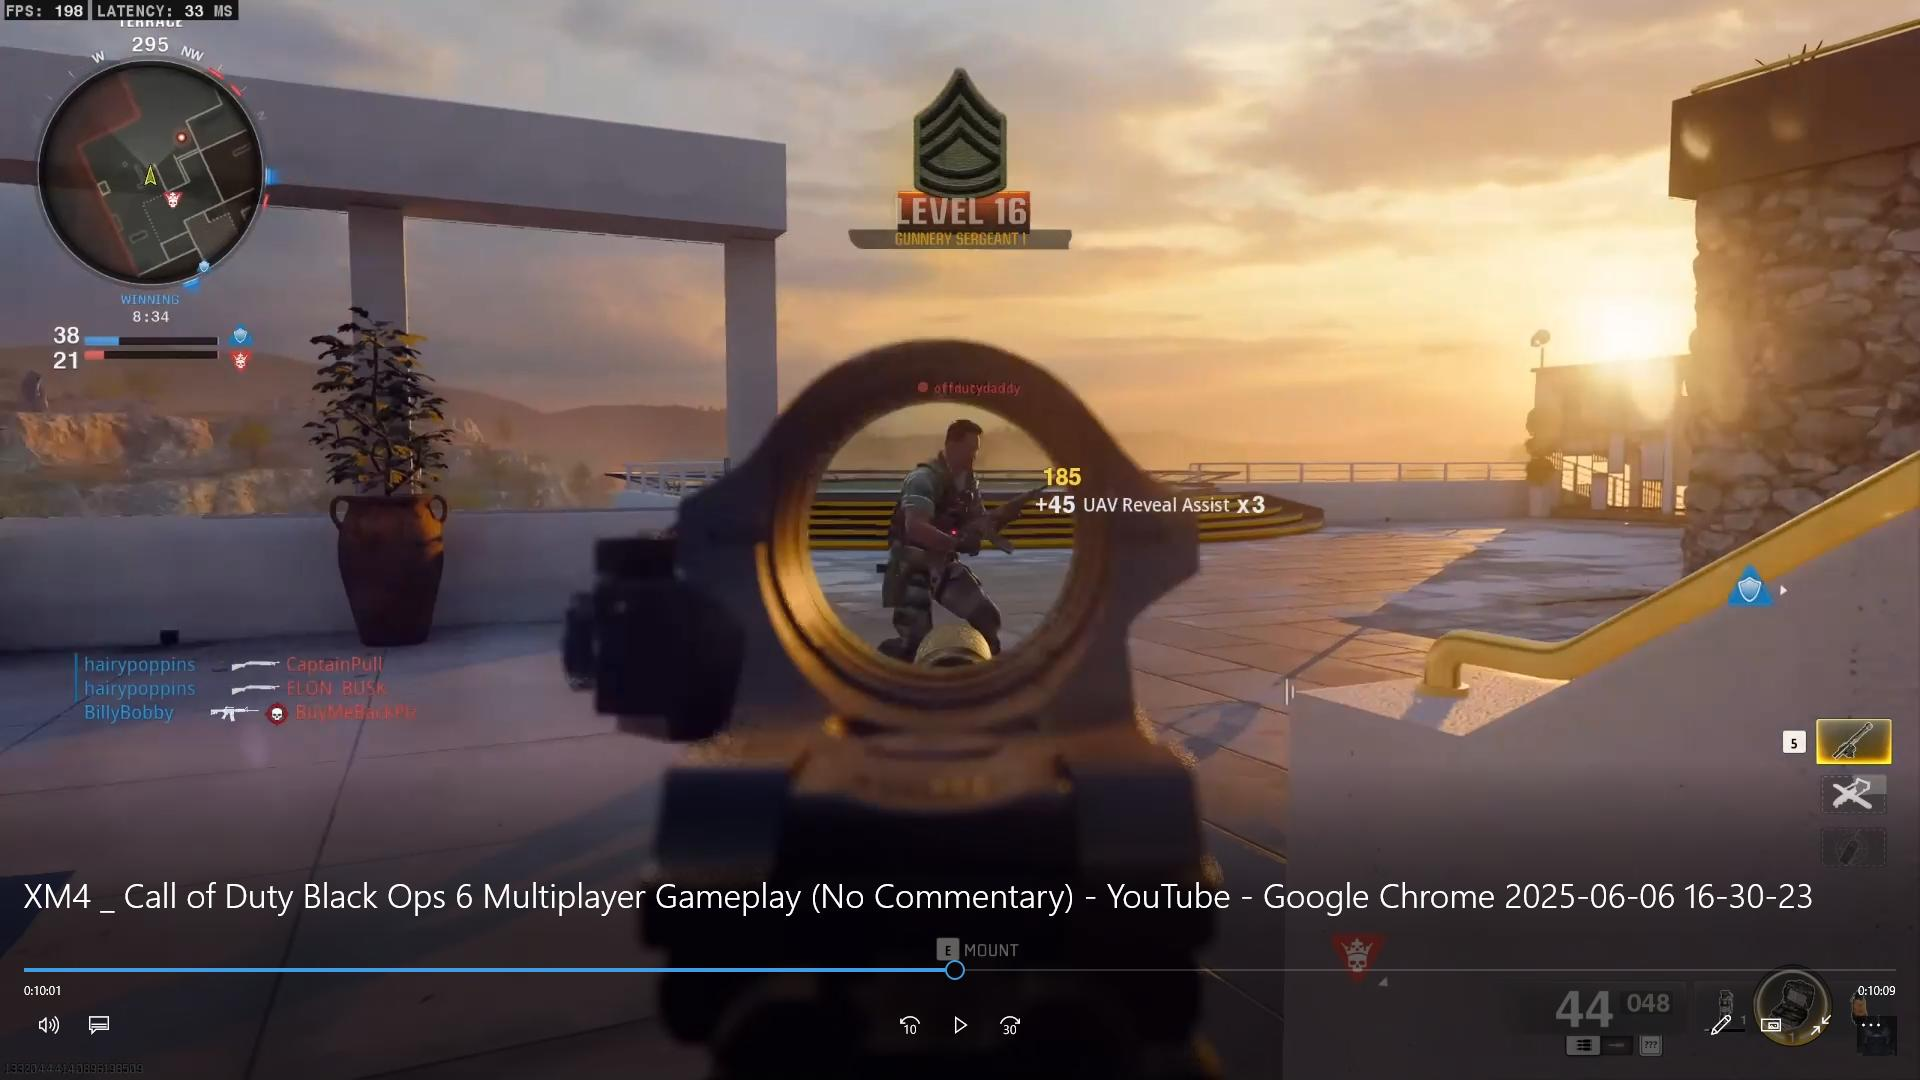Enemy: (906, 394, 1027, 659)
